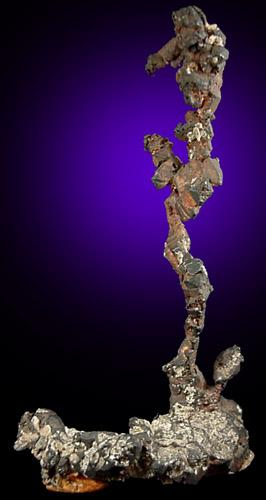copper: (14, 7, 254, 494)
